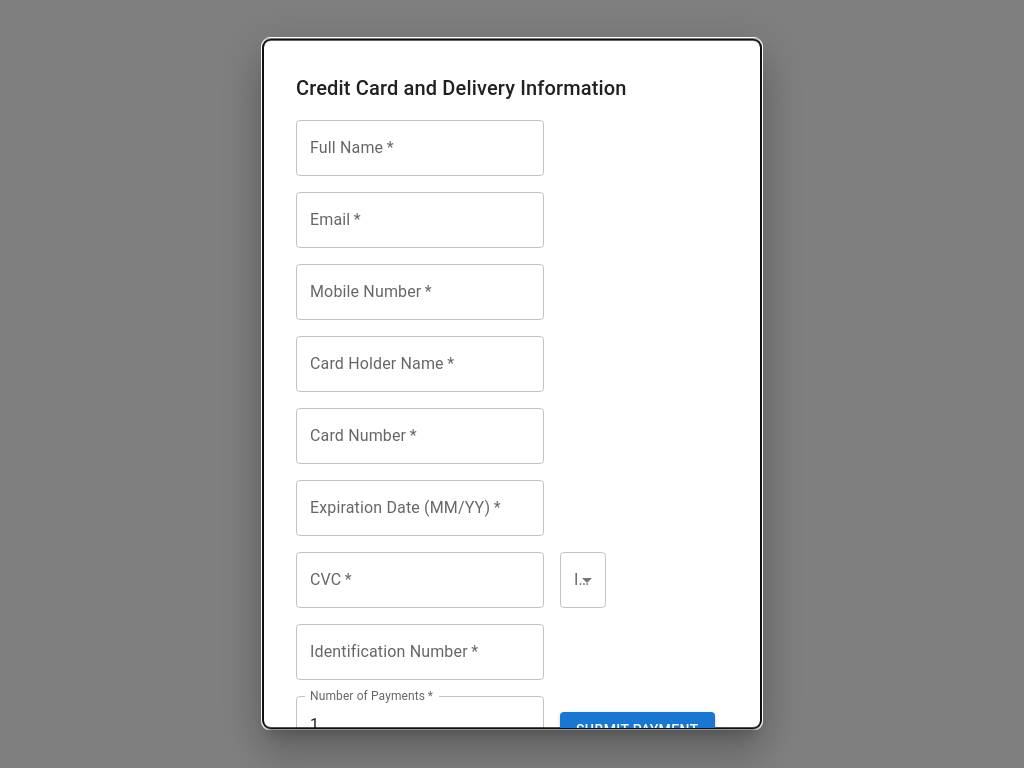
Test: PaymentModal › Validation › sanitizes card number input
Type "1234-5678-9012-3456" into the field labelled "Card Number *" at {"x": 420, "y": 436}, box [296,408,544,464]
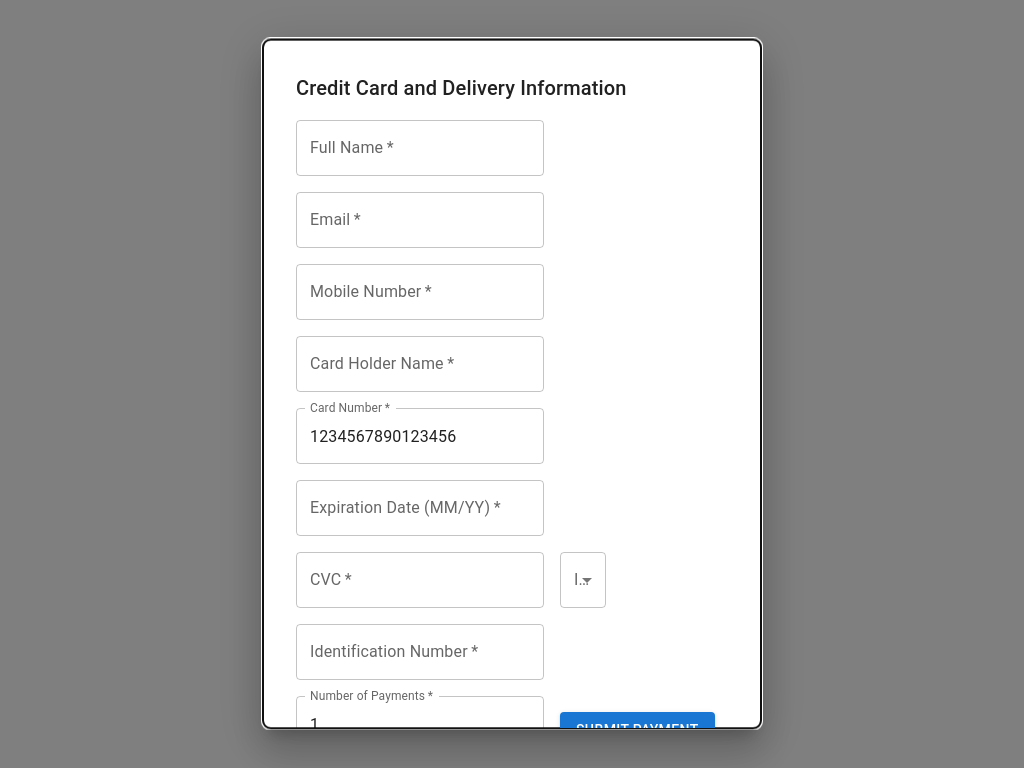
Expected: the field labelled "Card Number *" holds "1234567890123456", [296,408,544,464]
